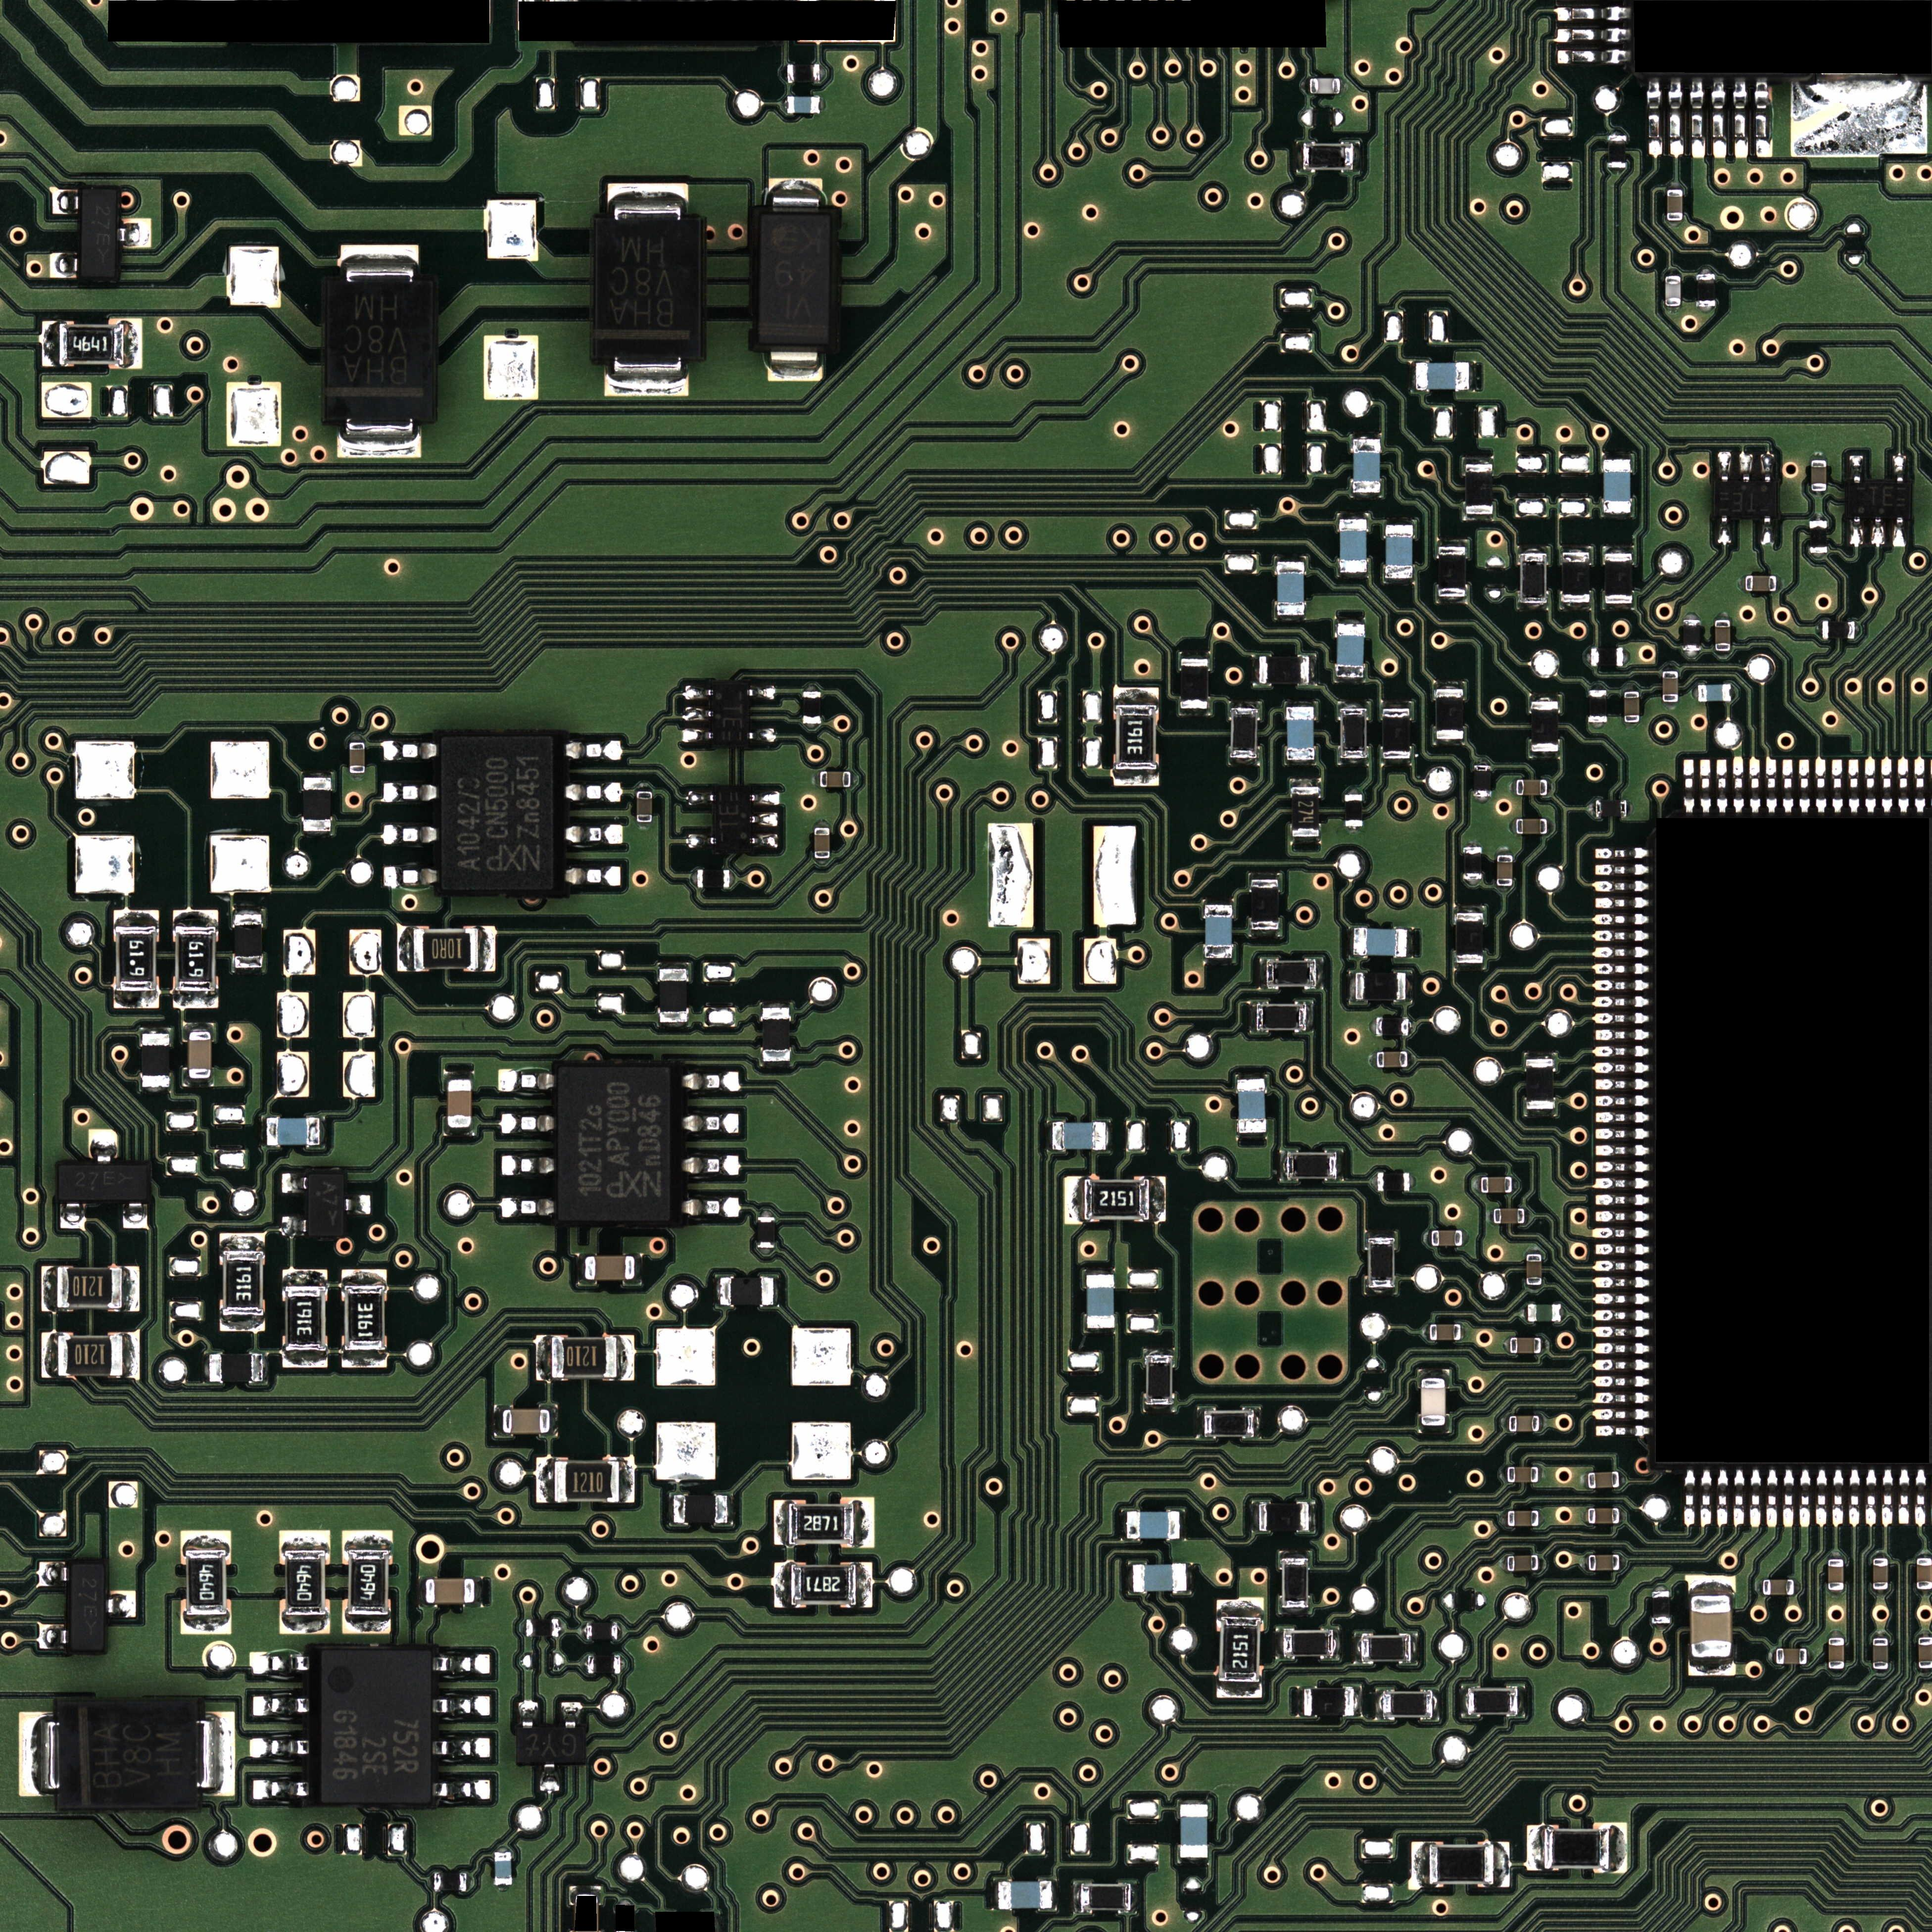Package: (556, 1065, 672, 1223), (441, 736, 554, 890), (320, 1649, 432, 1805), (326, 281, 435, 418), (60, 1700, 196, 1808), (594, 221, 701, 356), (759, 214, 832, 345), (58, 1164, 149, 1200), (81, 189, 115, 278), (71, 1562, 104, 1651), (57, 1267, 122, 1309), (347, 1550, 389, 1615), (554, 1460, 619, 1502), (1219, 1617, 1261, 1683), (1115, 706, 1157, 770), (58, 324, 124, 364), (175, 927, 216, 993), (789, 1504, 855, 1545), (552, 1338, 617, 1378), (285, 1550, 326, 1615), (223, 1251, 264, 1316), (186, 1550, 226, 1615), (791, 1564, 856, 1605), (1085, 1180, 1150, 1221), (414, 929, 478, 970), (115, 927, 156, 991), (58, 1336, 122, 1376), (285, 1288, 326, 1352), (1545, 1828, 1608, 1868), (517, 1727, 586, 1764), (1691, 1596, 1732, 1658), (345, 1286, 384, 1350), (1430, 1845, 1493, 1884), (715, 787, 752, 851), (711, 681, 748, 745), (308, 1173, 345, 1237), (1714, 481, 1778, 517), (1847, 483, 1911, 517), (658, 968, 688, 1023), (303, 777, 331, 832), (209, 1353, 264, 1382), (234, 915, 262, 968), (763, 1008, 791, 1062), (674, 1495, 727, 1523), (720, 1277, 773, 1306), (142, 1033, 170, 1086), (998, 1881, 1051, 1909), (1603, 460, 1631, 513), (1127, 1511, 1180, 1539), (1053, 1122, 1106, 1150), (1180, 1805, 1208, 1858), (1086, 1276, 1115, 1329), (1260, 1502, 1309, 1532), (1180, 658, 1208, 709), (1286, 708, 1315, 759), (1530, 701, 1559, 752), (1134, 1564, 1185, 1592), (1415, 363, 1468, 389), (1385, 525, 1412, 579), (1338, 625, 1364, 678), (1353, 929, 1407, 955), (1205, 906, 1231, 959), (1277, 563, 1304, 616), (1353, 439, 1380, 492), (1238, 1079, 1265, 1132), (1251, 879, 1279, 929), (1260, 656, 1309, 685), (1292, 787, 1320, 837), (1465, 464, 1493, 513), (1562, 552, 1591, 602), (1605, 554, 1633, 603), (1304, 1688, 1353, 1716), (267, 1118, 318, 1145), (1437, 688, 1463, 740), (1339, 520, 1366, 571), (425, 1578, 474, 1605), (1456, 913, 1483, 962), (1355, 973, 1405, 1000), (1384, 709, 1410, 759), (1438, 547, 1465, 596), (1267, 961, 1316, 987), (1081, 1884, 1131, 1911), (1368, 1238, 1394, 1288), (1468, 1688, 1518, 1714), (1384, 1691, 1433, 1718), (1527, 1060, 1553, 1109), (1302, 145, 1353, 170), (1288, 1152, 1336, 1178), (1205, 1410, 1253, 1437), (1362, 1635, 1410, 1661), (586, 1256, 635, 1281), (1231, 708, 1256, 757), (1522, 554, 1546, 603), (1341, 708, 1366, 757), (1256, 1005, 1306, 1030), (1283, 1631, 1332, 1656), (1146, 1355, 1171, 1405), (1283, 1559, 1307, 1608), (448, 1079, 472, 1127), (1421, 1378, 1445, 1426), (502, 1410, 550, 1433), (188, 1031, 211, 1077), (787, 64, 821, 83), (433, 1872, 467, 1891), (1697, 274, 1716, 306), (1463, 847, 1483, 879), (1591, 648, 1622, 667), (1376, 1017, 1408, 1037), (525, 1619, 559, 1637), (587, 1656, 621, 1674), (494, 1852, 511, 1886), (1608, 134, 1626, 168), (1527, 1304, 1560, 1322), (1652, 1591, 1670, 1624), (787, 96, 819, 113), (803, 692, 821, 724), (697, 870, 729, 888), (757, 1217, 775, 1249), (586, 1622, 617, 1640), (1698, 685, 1730, 702), (1822, 621, 1854, 639), (1474, 764, 1491, 796), (1589, 690, 1606, 722), (1810, 520, 1828, 552), (1683, 619, 1700, 651), (1345, 794, 1362, 826), (1430, 1323, 1461, 1341), (1378, 1173, 1410, 1191), (819, 771, 851, 787), (637, 791, 653, 823), (1497, 855, 1513, 886), (1493, 1208, 1525, 1224), (1507, 1511, 1539, 1527), (1828, 1559, 1844, 1591), (814, 828, 830, 858), (349, 743, 364, 773), (1516, 780, 1546, 796), (1746, 575, 1776, 591), (1665, 276, 1681, 306), (1714, 621, 1730, 651), (1309, 78, 1339, 94), (1624, 692, 1640, 722), (1667, 189, 1683, 219), (1589, 1507, 1619, 1523), (1589, 1555, 1619, 1571), (1507, 1555, 1537, 1571), (1507, 1467, 1537, 1483), (1509, 1415, 1539, 1431), (1431, 1230, 1461, 1246), (1511, 1338, 1541, 1353), (1776, 1649, 1806, 1665), (1376, 1051, 1407, 1067), (1589, 1472, 1619, 1488), (1872, 1638, 1888, 1668), (1481, 1177, 1511, 1192), (1828, 1638, 1844, 1668), (1812, 460, 1826, 492), (1663, 671, 1677, 702), (1516, 819, 1546, 833), (1764, 1580, 1794, 1594), (1527, 1254, 1541, 1284), (1874, 1559, 1888, 1589)
Solder: (1790, 78, 1928, 154), (19, 1711, 60, 1798), (338, 419, 421, 458), (605, 357, 688, 396), (198, 1711, 235, 1796), (340, 244, 418, 283), (607, 182, 688, 219), (766, 345, 823, 382), (768, 177, 823, 214), (1753, 81, 1775, 157), (1688, 81, 1707, 159), (1667, 81, 1686, 159), (683, 1194, 741, 1219), (1647, 81, 1665, 161), (566, 821, 623, 846), (683, 1152, 740, 1177), (1732, 81, 1750, 159), (1711, 81, 1729, 159), (1555, 48, 1631, 65), (249, 1736, 308, 1759), (249, 1652, 308, 1675), (564, 780, 623, 803), (497, 1069, 554, 1092), (251, 1693, 308, 1716), (433, 1778, 490, 1801), (683, 1111, 740, 1134), (1552, 27, 1631, 42), (1552, 5, 1631, 21), (382, 823, 437, 846), (253, 1778, 308, 1801), (566, 863, 621, 886), (432, 1695, 490, 1716), (384, 865, 437, 888), (501, 1111, 554, 1134), (501, 1154, 554, 1177), (433, 1737, 490, 1759), (433, 1654, 490, 1675), (566, 740, 623, 761), (683, 1072, 740, 1093), (382, 740, 437, 761), (382, 782, 437, 803), (501, 1196, 554, 1217), (88, 1129, 119, 1164), (117, 218, 150, 248), (280, 1615, 331, 1635), (280, 1530, 331, 1550), (341, 1530, 393, 1550), (180, 1615, 232, 1635), (180, 1530, 232, 1550), (855, 1497, 874, 1548), (341, 1615, 391, 1635), (1215, 1598, 1265, 1617), (1065, 1177, 1085, 1224), (1410, 1842, 1430, 1890), (124, 318, 142, 370), (1610, 1822, 1628, 1874), (1591, 1391, 1652, 1405), (1591, 1292, 1652, 1306), (1591, 1276, 1652, 1290), (1591, 1143, 1652, 1157), (1591, 1093, 1652, 1108), (1589, 1044, 1651, 1058), (1587, 994, 1649, 1008), (1587, 945, 1649, 959), (1589, 929, 1651, 943), (106, 1589, 136, 1617), (1847, 1468, 1861, 1529), (1831, 1468, 1845, 1529), (1592, 1407, 1652, 1421), (1591, 1341, 1651, 1355), (1592, 1226, 1652, 1240), (1591, 1192, 1651, 1207), (1591, 1127, 1651, 1141), (1591, 1077, 1651, 1092), (1591, 846, 1651, 860), (41, 320, 58, 368), (1688, 1658, 1736, 1675), (1688, 1576, 1736, 1594), (1764, 755, 1778, 814), (1798, 755, 1812, 814), (1782, 755, 1796, 814), (1829, 755, 1844, 814), (1913, 755, 1927, 814), (113, 909, 159, 927), (478, 925, 495, 971), (219, 1233, 265, 1251), (281, 1269, 327, 1286), (41, 1332, 58, 1378), (617, 1334, 635, 1380), (536, 1458, 554, 1504), (1113, 770, 1159, 787), (1113, 686, 1159, 704), (39, 1560, 69, 1587), (173, 909, 218, 927), (122, 1267, 140, 1311), (1683, 759, 1697, 814), (1698, 759, 1713, 814), (1714, 759, 1729, 814), (1591, 1375, 1652, 1387), (1591, 1359, 1652, 1371), (1591, 1325, 1652, 1338), (1591, 1260, 1652, 1272), (1591, 1244, 1652, 1256), (1591, 1210, 1652, 1223), (1591, 1177, 1652, 1189), (1589, 1012, 1651, 1024), (1591, 1028, 1652, 1040), (1589, 1062, 1651, 1074), (1587, 978, 1649, 991), (1589, 962, 1651, 975), (1589, 897, 1651, 909), (1591, 863, 1652, 876), (536, 1334, 552, 1382), (619, 1456, 635, 1504), (1215, 1683, 1263, 1698), (1527, 1824, 1543, 1872), (39, 1624, 69, 1649), (1914, 1467, 1927, 1527), (1898, 1467, 1911, 1527), (1881, 1468, 1893, 1529), (1865, 1467, 1877, 1527), (1815, 1468, 1828, 1529), (1799, 1468, 1812, 1529), (1782, 1468, 1794, 1529), (1766, 1468, 1778, 1529), (1750, 1468, 1762, 1529), (1734, 1468, 1746, 1529), (1716, 1468, 1729, 1529), (1700, 1468, 1713, 1529), (1683, 1468, 1695, 1529), (1591, 1309, 1651, 1322), (1591, 1161, 1651, 1173), (1591, 1111, 1651, 1123), (1591, 913, 1651, 925), (1591, 879, 1651, 892), (396, 925, 412, 971), (124, 1332, 140, 1378), (219, 1316, 265, 1332), (341, 1269, 387, 1284), (173, 993, 219, 1008), (113, 993, 159, 1008), (341, 1352, 387, 1368), (41, 1265, 57, 1311), (856, 1562, 872, 1608), (773, 1500, 789, 1546), (775, 1562, 791, 1608), (1150, 1177, 1166, 1223), (1594, 1424, 1652, 1437), (1732, 755, 1744, 814), (1748, 755, 1760, 814), (1815, 755, 1828, 814), (1863, 755, 1875, 814), (1847, 755, 1859, 814), (1897, 755, 1909, 814), (1881, 755, 1893, 814), (283, 1352, 327, 1368), (50, 253, 78, 278), (51, 189, 80, 214), (122, 1201, 147, 1228), (60, 1201, 85, 1228), (1495, 1842, 1509, 1888), (540, 1764, 561, 1792), (1891, 453, 1909, 483), (561, 1702, 582, 1727), (518, 1700, 538, 1727), (281, 1173, 306, 1192), (281, 1215, 306, 1235), (1716, 451, 1732, 481), (1716, 517, 1732, 547), (1849, 517, 1865, 547), (1870, 517, 1886, 547), (1849, 455, 1865, 483), (347, 1194, 370, 1214), (750, 791, 780, 805), (1739, 451, 1753, 481), (750, 727, 777, 743), (686, 833, 715, 847), (683, 708, 711, 722), (748, 685, 777, 699), (683, 686, 711, 701), (1760, 453, 1775, 481), (1760, 517, 1775, 545), (752, 833, 778, 847), (752, 812, 778, 826), (686, 791, 713, 805), (683, 729, 711, 741), (1893, 518, 1905, 547), (568, 1886, 603, 1895), (182, 1023, 216, 1031), (577, 1253, 586, 1286), (1295, 140, 1304, 173), (1352, 140, 1361, 173), (1336, 1148, 1345, 1182), (1353, 1684, 1362, 1718), (1431, 1688, 1440, 1721), (1072, 1881, 1081, 1914), (182, 1077, 214, 1086), (444, 1127, 476, 1136), (494, 1405, 502, 1437), (1290, 778, 1322, 787), (1454, 904, 1486, 913), (1196, 1407, 1205, 1438), (1419, 1426, 1451, 1435), (1366, 1230, 1398, 1238), (1279, 1150, 1288, 1182), (1276, 1628, 1284, 1660), (1279, 1550, 1311, 1559), (1251, 1500, 1260, 1532), (1353, 1633, 1362, 1665), (1375, 1688, 1384, 1720), (1410, 1633, 1419, 1665), (1518, 545, 1550, 554), (444, 1070, 474, 1079), (418, 1576, 426, 1606), (474, 1576, 483, 1606), (1178, 708, 1208, 717), (1454, 962, 1484, 971), (1419, 1369, 1449, 1378), (1463, 456, 1493, 465), (1560, 602, 1591, 610), (1525, 1051, 1555, 1060), (665, 1493, 672, 1529), (232, 908, 265, 915), (232, 968, 265, 975), (759, 1001, 793, 1008), (1309, 653, 1316, 686), (1274, 556, 1307, 563), (1435, 596, 1468, 603), (1316, 957, 1323, 991), (1254, 1407, 1261, 1440), (1306, 1000, 1313, 1033), (1309, 1500, 1316, 1534), (1332, 1628, 1339, 1661), (1187, 1562, 1194, 1596), (1131, 1881, 1138, 1914), (1177, 1858, 1210, 1865), (1461, 513, 1495, 520), (1461, 1684, 1468, 1718), (301, 771, 333, 778), (140, 1086, 172, 1093), (658, 962, 690, 970), (773, 1276, 780, 1307), (1350, 492, 1382, 499), (1338, 701, 1369, 708), (1249, 929, 1281, 936), (1334, 617, 1366, 625), (1338, 513, 1369, 520), (1253, 655, 1260, 686), (1338, 573, 1369, 580), (1228, 757, 1260, 764), (1433, 681, 1465, 688), (1437, 540, 1468, 547), (1433, 740, 1465, 747), (1260, 957, 1267, 989), (1203, 957, 1235, 964), (1407, 927, 1414, 959), (1384, 518, 1415, 525), (1290, 837, 1322, 844), (1348, 971, 1355, 1003), (1364, 1288, 1396, 1295), (1143, 1348, 1175, 1355), (1143, 1405, 1175, 1412), (1083, 1269, 1115, 1276), (1051, 1879, 1058, 1911), (1120, 1509, 1127, 1541), (1601, 453, 1633, 460), (1529, 752, 1560, 759), (1560, 547, 1592, 554), (1529, 694, 1560, 701), (1525, 1109, 1557, 1116), (1518, 1684, 1525, 1716), (550, 1407, 557, 1437), (635, 1254, 642, 1284), (1230, 701, 1260, 708), (1180, 651, 1210, 658), (1382, 701, 1412, 708), (1249, 872, 1279, 879), (1405, 971, 1412, 1001), (1251, 1001, 1258, 1031), (1279, 1608, 1309, 1615), (1297, 1686, 1304, 1716), (1178, 1798, 1208, 1805), (1468, 361, 1476, 391), (1518, 603, 1548, 610), (1603, 547, 1633, 554), (1603, 603, 1633, 610), (729, 1493, 734, 1529), (262, 1115, 267, 1148), (759, 1062, 793, 1067), (1235, 1074, 1269, 1079), (1083, 1329, 1116, 1334), (1127, 1560, 1132, 1594), (467, 1872, 476, 1891), (301, 832, 333, 837), (140, 1028, 172, 1033), (203, 1352, 209, 1384), (715, 1276, 720, 1307), (1350, 433, 1382, 439), (1410, 361, 1415, 393), (1284, 701, 1316, 706), (1284, 761, 1316, 766), (1348, 927, 1353, 959), (1274, 616, 1306, 621), (1334, 678, 1366, 683), (1338, 759, 1369, 764), (1203, 899, 1235, 904), (1047, 1120, 1053, 1152), (1106, 1120, 1111, 1152), (1180, 1509, 1185, 1541), (993, 1879, 998, 1911), (1601, 513, 1633, 518), (658, 1023, 688, 1028), (1384, 579, 1414, 584), (1382, 759, 1412, 764), (1237, 1132, 1267, 1138), (803, 683, 821, 692), (757, 1208, 775, 1217), (757, 1247, 775, 1256), (1369, 1173, 1378, 1191), (1622, 648, 1631, 665), (1828, 1629, 1845, 1638), (1828, 1668, 1845, 1677), (349, 734, 364, 743), (778, 97, 787, 113), (778, 65, 787, 81), (819, 97, 828, 113), (1369, 1051, 1378, 1067), (1407, 1051, 1415, 1067), (1714, 612, 1730, 621), (1546, 819, 1555, 835), (1624, 683, 1640, 692), (1461, 1230, 1470, 1246), (1755, 1580, 1764, 1596), (1619, 1472, 1628, 1488), (426, 1872, 433, 1891), (494, 1886, 513, 1893), (621, 1654, 628, 1674), (1345, 826, 1364, 833), (1408, 1017, 1415, 1037), (1463, 840, 1483, 847), (494, 1845, 511, 1852), (819, 65, 828, 80), (803, 724, 821, 731), (814, 770, 821, 787), (729, 870, 736, 888), (559, 1619, 566, 1637), (580, 1656, 587, 1674), (518, 1619, 525, 1637), (579, 1622, 586, 1640), (617, 1622, 625, 1640), (1345, 787, 1362, 794), (1410, 1173, 1417, 1191), (1369, 1017, 1376, 1035), (1697, 306, 1714, 313), (1697, 267, 1714, 274), (1546, 780, 1555, 794), (1661, 702, 1679, 709), (1474, 796, 1491, 803), (1589, 722, 1606, 729), (1683, 612, 1700, 619), (1474, 759, 1491, 766), (1683, 651, 1700, 658), (1815, 621, 1822, 639), (1661, 663, 1679, 671), (1810, 552, 1828, 559), (1854, 621, 1861, 639), (1737, 577, 1746, 591), (1583, 648, 1591, 665), (1463, 879, 1481, 886), (1511, 1178, 1520, 1192), (1522, 1304, 1529, 1322), (1652, 1622, 1670, 1629), (1872, 1668, 1890, 1675), (320, 1115, 324, 1148), (349, 773, 364, 780), (264, 1353, 267, 1385), (814, 821, 830, 828), (1339, 78, 1346, 94), (1426, 1230, 1433, 1246), (1665, 269, 1681, 276), (1589, 683, 1605, 690), (1624, 722, 1640, 729), (1497, 847, 1513, 855), (1810, 513, 1826, 520), (1730, 685, 1737, 701), (1497, 886, 1513, 893), (1691, 685, 1698, 701), (1488, 1208, 1495, 1224), (1474, 1177, 1481, 1192), (1523, 1208, 1530, 1224), (1828, 1552, 1844, 1559), (1619, 1555, 1626, 1571), (1872, 1589, 1888, 1596), (1794, 1580, 1801, 1596), (1806, 1649, 1813, 1665), (1582, 1555, 1589, 1571), (1582, 1472, 1589, 1488), (692, 869, 697, 888), (637, 823, 651, 830), (637, 784, 651, 791), (816, 858, 830, 865), (1812, 453, 1826, 460), (1509, 819, 1516, 833), (1776, 577, 1783, 591), (1509, 780, 1516, 794), (1874, 1552, 1888, 1559), (1619, 1509, 1626, 1523), (1874, 1631, 1888, 1638), (1500, 1557, 1507, 1571), (1582, 1509, 1589, 1523), (1608, 168, 1626, 173), (1608, 129, 1626, 134), (1560, 1304, 1566, 1322), (1828, 1591, 1845, 1596), (617, 1898, 635, 1904), (851, 771, 856, 787), (1304, 78, 1309, 94), (1667, 184, 1683, 189), (1812, 492, 1828, 497), (1665, 306, 1681, 311), (1667, 221, 1683, 226), (1714, 651, 1730, 656), (1539, 1415, 1545, 1431), (1504, 1338, 1509, 1353), (1541, 1338, 1546, 1353), (1652, 1585, 1668, 1591), (1771, 1649, 1776, 1665), (1539, 1555, 1545, 1571), (1502, 1467, 1507, 1483), (1539, 1511, 1545, 1527), (1539, 1467, 1545, 1483), (1502, 1511, 1507, 1527), (1461, 1325, 1467, 1339), (1504, 1417, 1509, 1431), (1426, 1325, 1430, 1339)
